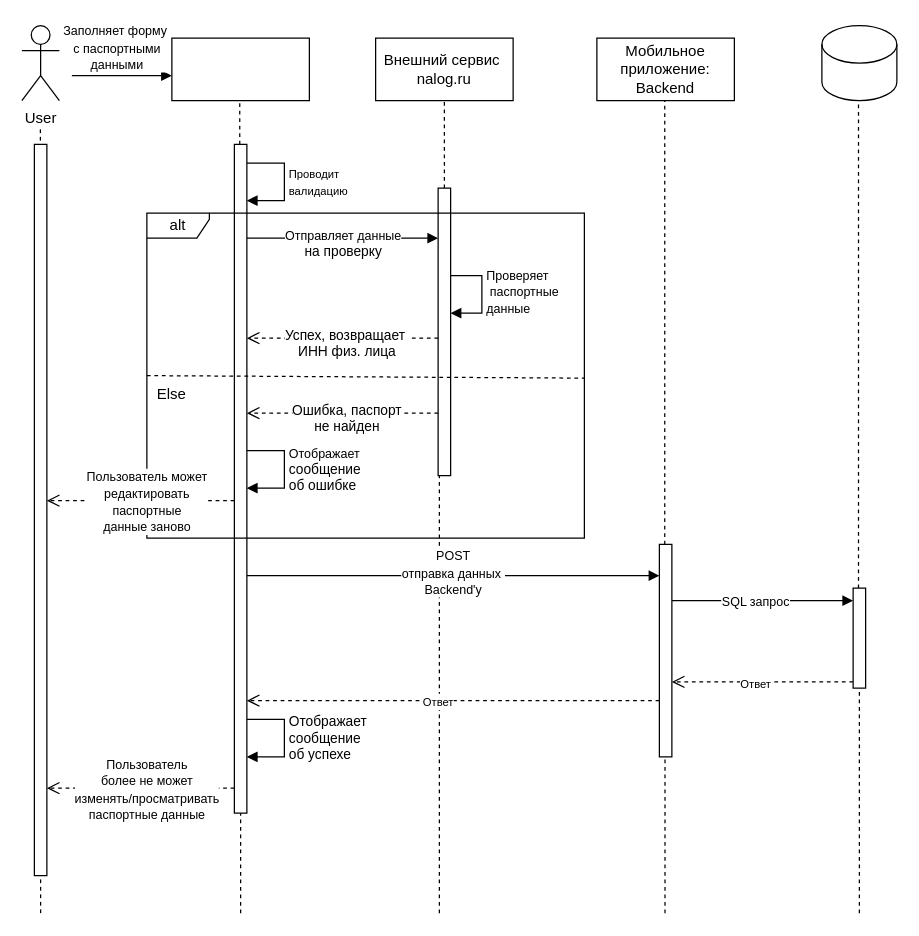
Image size: 919x936. Some labels were removed from this diagram. Here are the shapes that lost their labels. From the top down, the box of each, then its label:
(171, 37, 309, 101): Мобильное приложение: UI Frontend
(821, 24, 897, 101): БД
